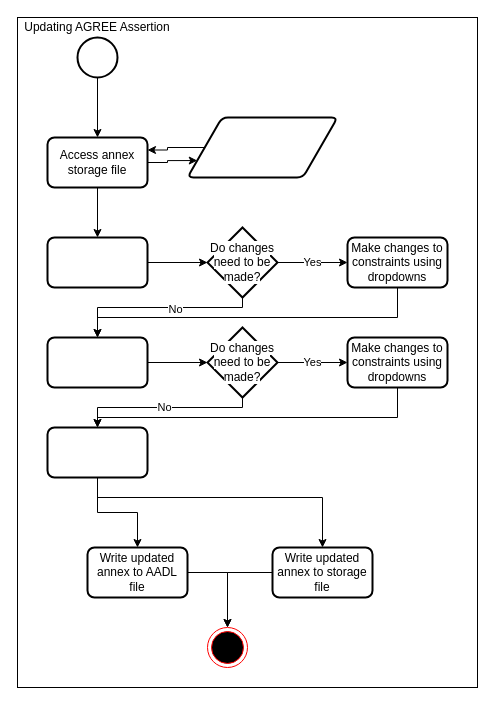
This 495x705 diagram has some shape labels left out. The shapes that lost their labels are listed below. From the top down, each one's centre as x and y in pixels, then its label:
[262,147]: Annex Storage File
[97,262]: Navigate to assumption page
[97,362]: Navigate to guarantee page
[97,452]: Navigate to output page
